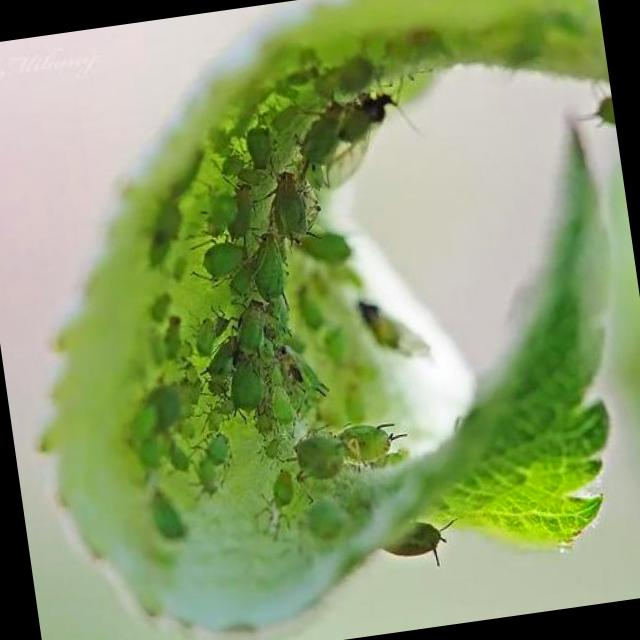aphid: (116, 40, 458, 595)
